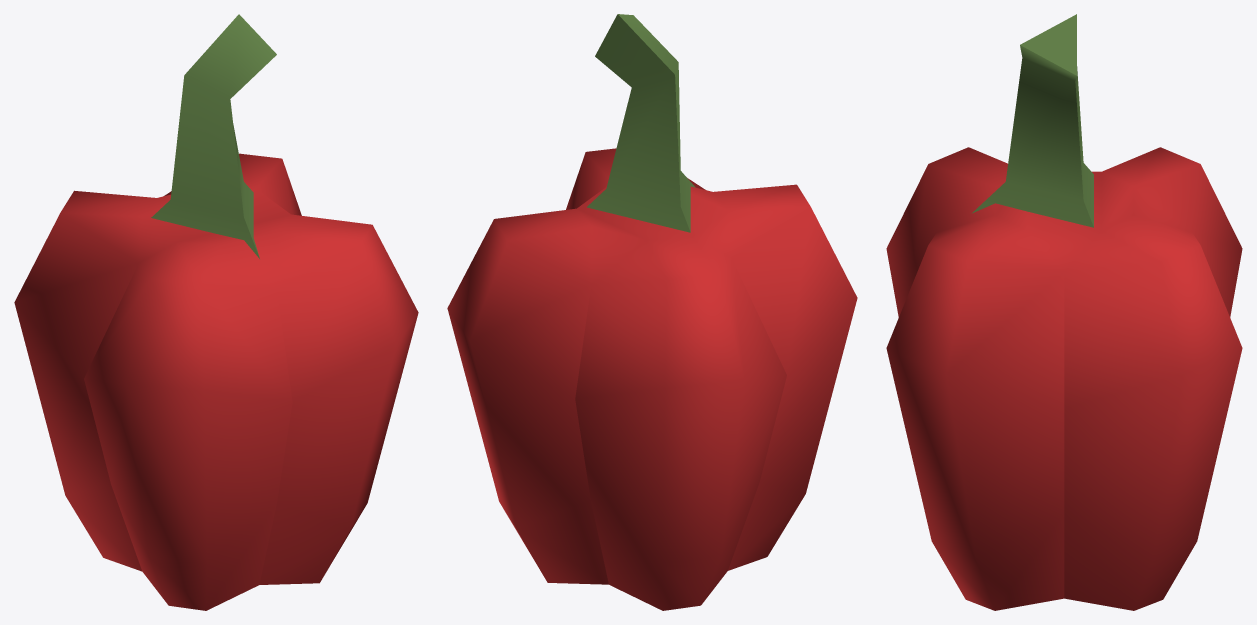
The model's file is Pepper.fbx.
3 renders of one model, left to right at view 1: azimuth 30°, elevation 25°; view 2: azimuth 150°, elevation 25°; view 3: azimuth 270°, elevation 25°, orthographic. The views are drawn at different scales.
Visible parts, largest first — view 1: Pepper; view 2: Pepper; view 3: Pepper.
Part boxes in pixels (x1,y1,x2,y2): Pepper: (14,14,418,610); Pepper: (447,14,857,610); Pepper: (886,14,1242,610).
Bounding box in the file's own units: 4.71 × 8.28 × 4.68.
